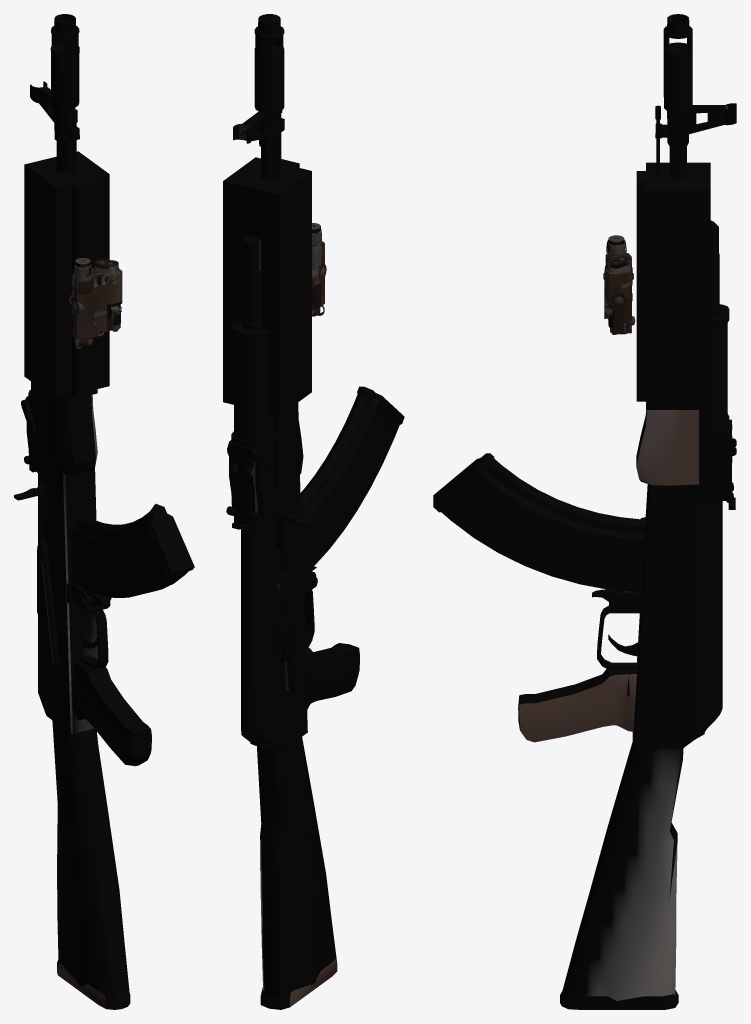
Rendered from AK74__Handguard_AK_Quad__Laser_Rifle.fbx.
3 renders of one model, left to right at view 1: azimuth 30°, elevation 25°; view 2: azimuth 150°, elevation 25°; view 3: azimuth 270°, elevation 25°, orthographic. The views are drawn at different scales.
Visible parts, largest first — view 1: asset_AK74.001; view 2: asset_AK74.001; view 3: asset_AK74.001.
Boxes of the visible parts, box(x1,y1,x2,y2) form: asset_AK74.001: box(14, 14, 194, 1009); asset_AK74.001: box(223, 14, 404, 1009); asset_AK74.001: box(433, 14, 736, 1009).
Size of the model in its own units: 0.046 by 0.564 by 0.1574.
